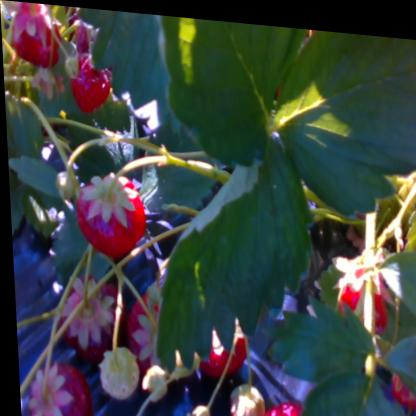ripe: (75, 174, 147, 263), (117, 285, 183, 370), (53, 280, 119, 348), (189, 307, 252, 377), (23, 359, 87, 416), (335, 256, 385, 327), (71, 46, 117, 117), (12, 4, 60, 67), (385, 351, 416, 404), (253, 396, 318, 416)
unripe: (95, 346, 138, 396), (229, 383, 265, 416)
